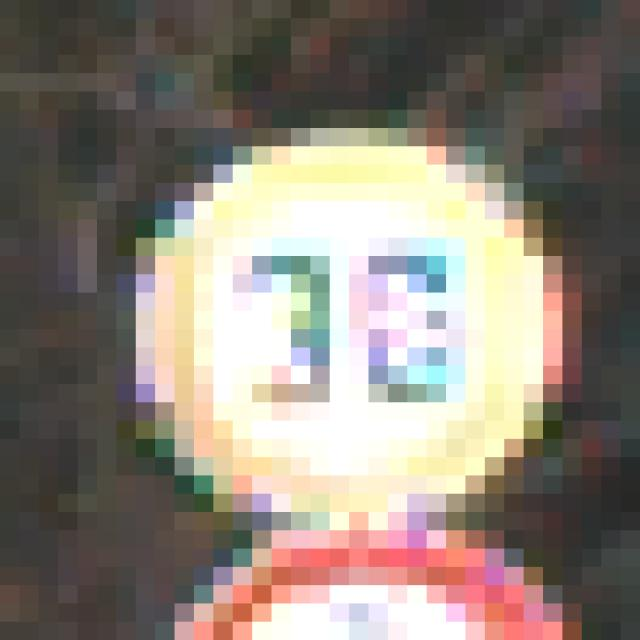Speed Limit -30-: (88, 100, 534, 540)
